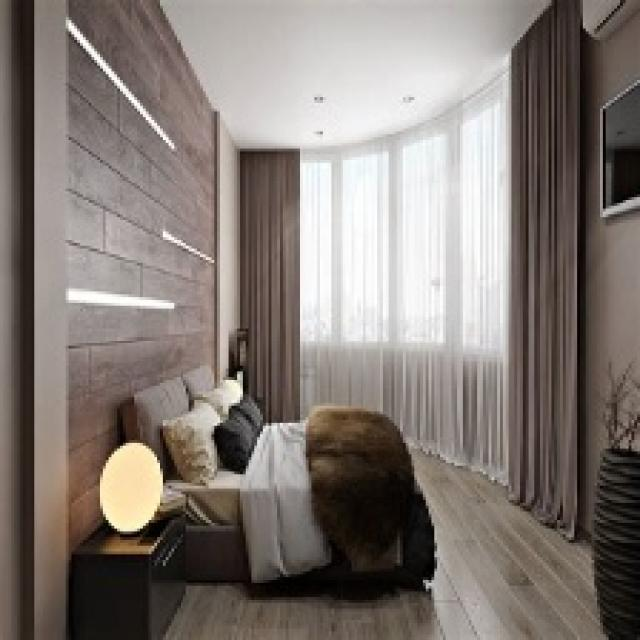Bed: (117, 368, 434, 592)
